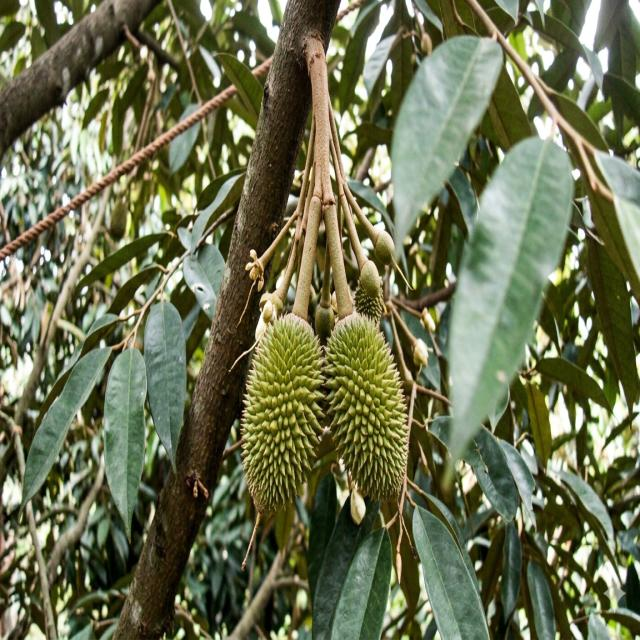immature: (239, 309, 326, 519), (320, 310, 408, 504), (353, 270, 385, 324), (315, 300, 336, 342), (109, 196, 129, 237), (374, 228, 395, 266)
